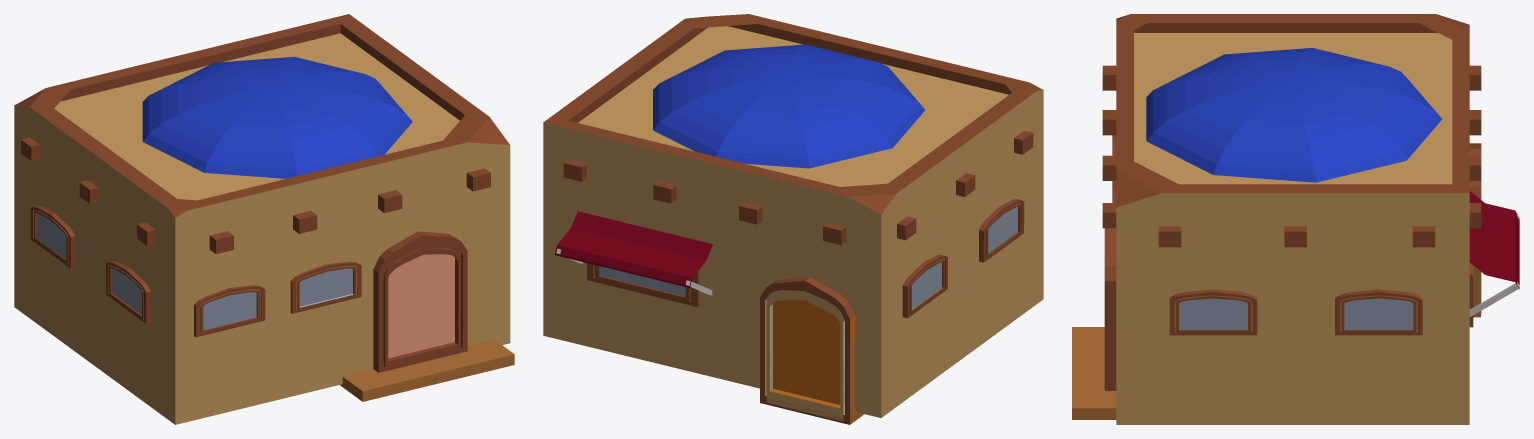
File: huismetdome.fbx
3 renders of one model, left to right at view 1: azimuth 30°, elevation 25°; view 2: azimuth 150°, elevation 25°; view 3: azimuth 270°, elevation 25°, orthographic. The views are drawn at different scales.
Visible parts, largest first — view 1: backup door.004; view 2: backup door.004; view 3: backup door.004.
Part boxes in pixels (x1,y1,x2,y2): backup door.004: (14,14,514,424); backup door.004: (543,14,1043,424); backup door.004: (1072,14,1519,424).
Bounding box in the file's own units: 954 × 639 × 955.
1 material, 1 textured.
